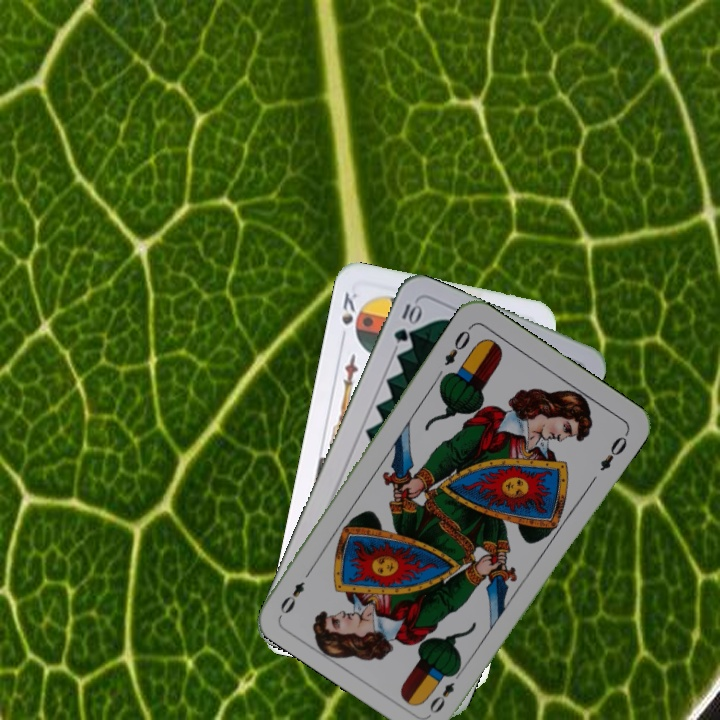EO: (425, 665, 465, 717), (440, 322, 474, 369)
G10: (389, 298, 423, 346)
SK: (337, 288, 360, 345)
